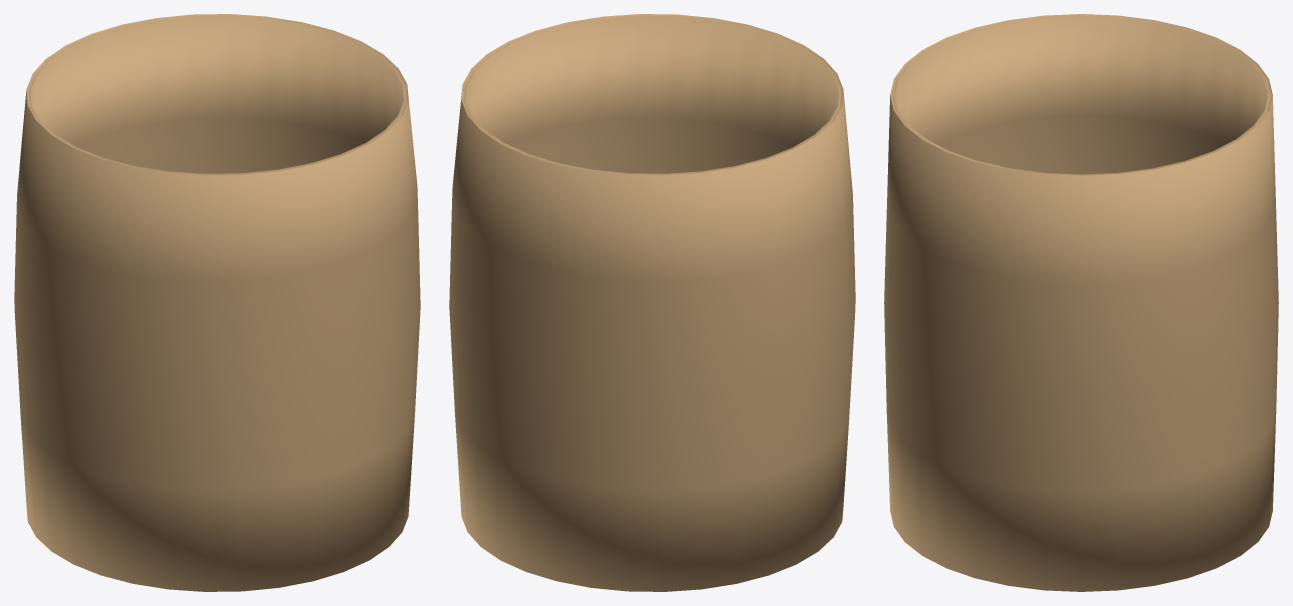
Rendered from barrel.fbx.
The picture shows the model from 3 angles, left to right: view 1: azimuth 30°, elevation 25°; view 2: azimuth 150°, elevation 25°; view 3: azimuth 270°, elevation 25°; orthographic projection.
Visible parts, largest first — view 1: Cylinder; view 2: Cylinder; view 3: Cylinder.
Boxes of the visible parts, <box> form: Cylinder: <box>14,14,420,591</box>; Cylinder: <box>449,14,855,591</box>; Cylinder: <box>884,14,1278,591</box>.
Bounding box in the file's own units: 1076 × 1200 × 1031.
